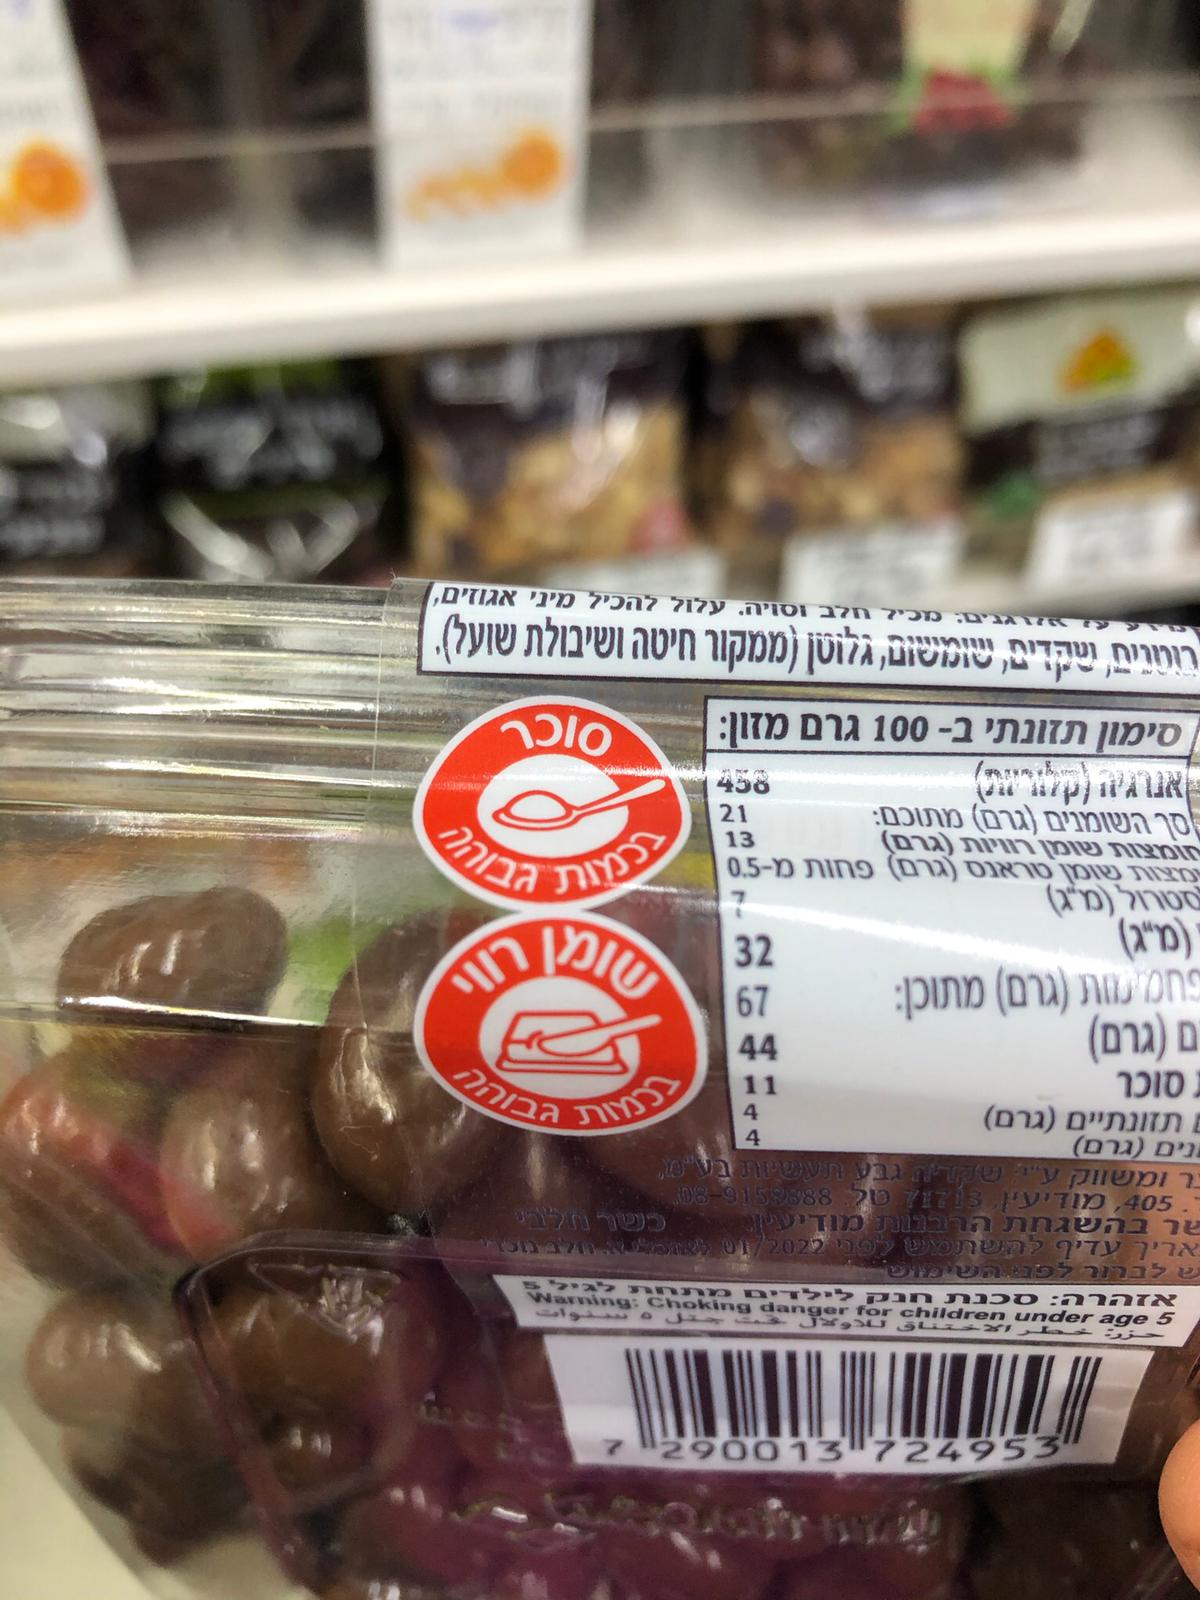fat: (412, 916, 711, 1136)
sugar: (411, 695, 695, 920)
